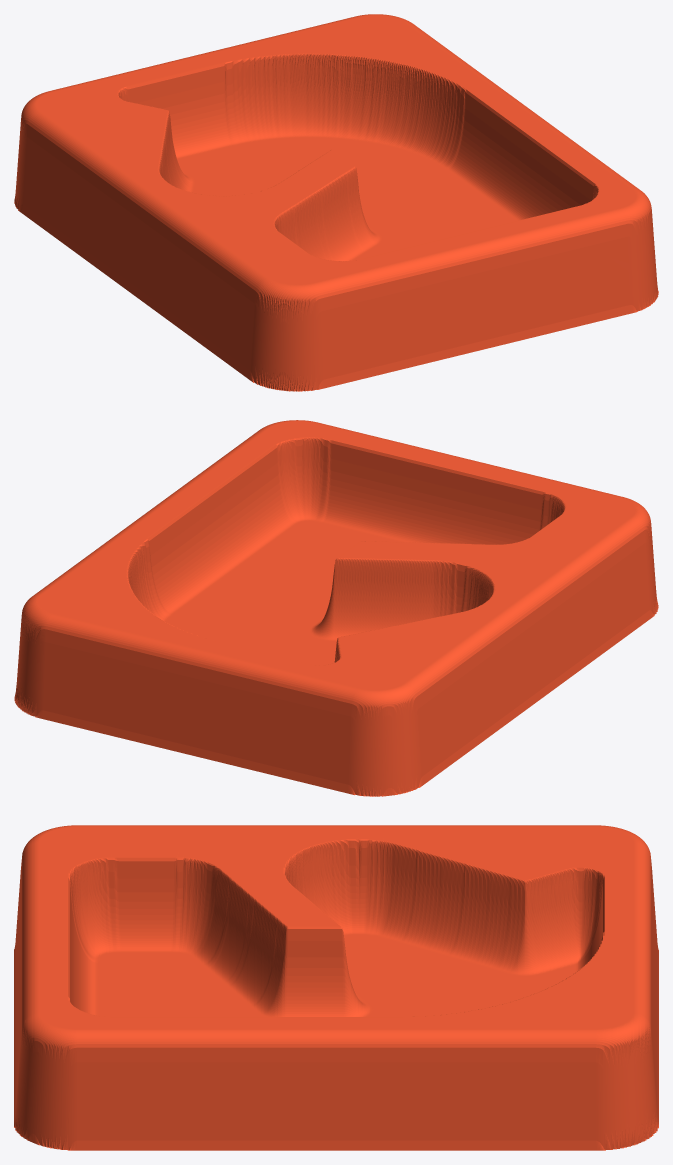
The model's file is mold.glb.
3 views of the same model, one above another, from view 1: azimuth 30°, elevation 25°; view 2: azimuth 150°, elevation 25°; view 3: azimuth 270°, elevation 25° (orthographic). The views are drawn at different scales.
Parts seen in each view (by area): view 1: geometry_0; view 2: geometry_0; view 3: geometry_0.
Boxes of the visible parts, x1,y1,x2,y2 form: geometry_0: (14,14,658,391); geometry_0: (14,420,658,796); geometry_0: (14,825,658,1150).
Size of the model in its own units: 0.0758 by 0.0175 by 0.0924.
